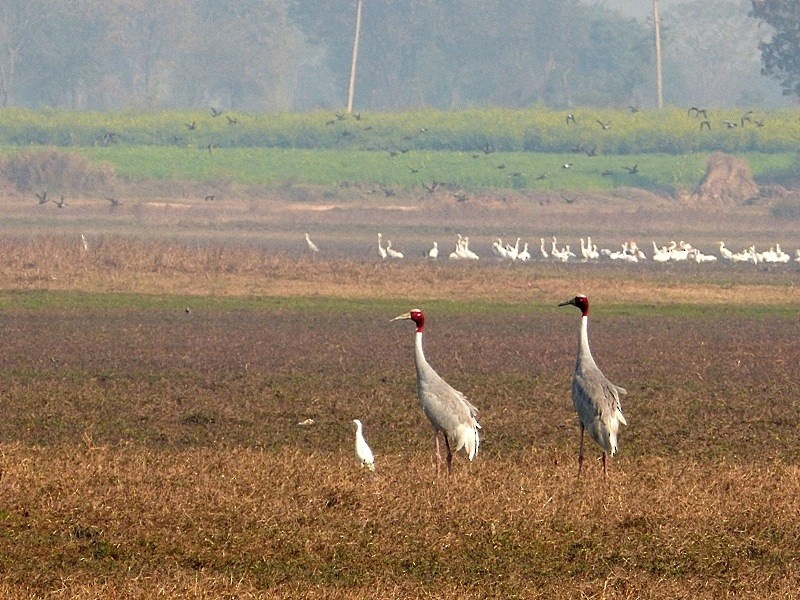crane: (386, 305, 500, 469), (552, 291, 628, 482)
